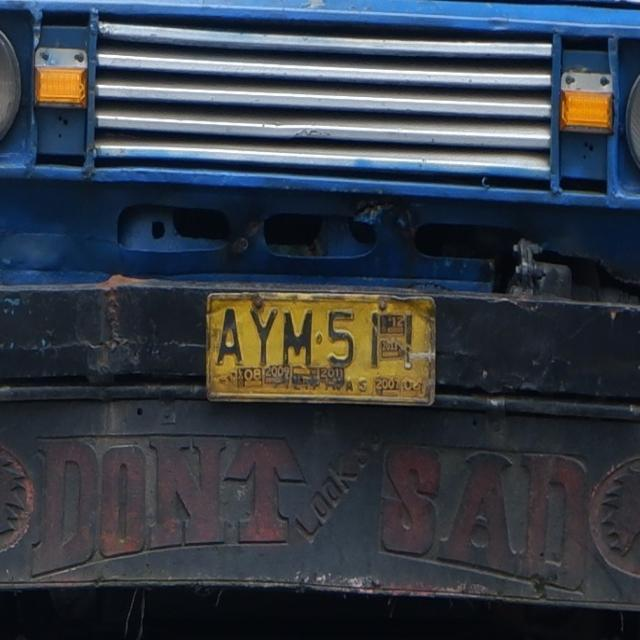LicensePlate: (196, 287, 452, 415)
